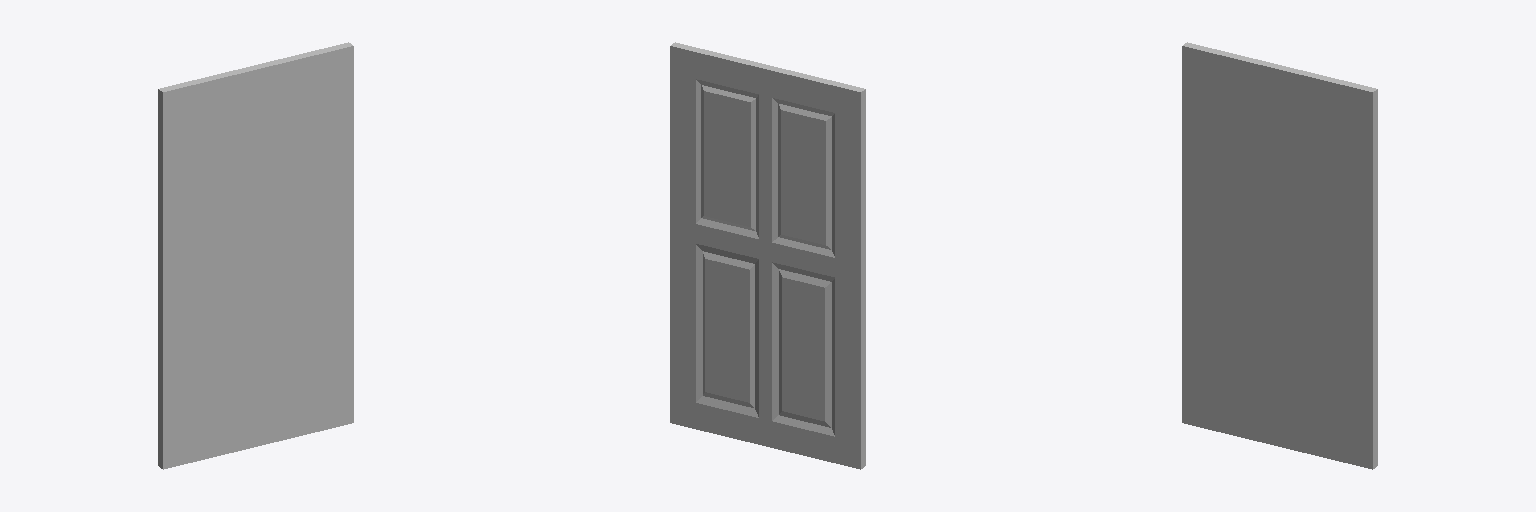
File: door.obj
3 renders of one model, left to right at view 1: azimuth 30°, elevation 25°; view 2: azimuth 150°, elevation 25°; view 3: azimuth 330°, elevation 25°, orthographic.
Parts seen in each view (by area): view 1: pPlane1; view 2: pPlane1; view 3: pPlane1.
Part boxes in pixels (left/top/right/bottom): pPlane1: left=158, top=42, right=353, bottom=469; pPlane1: left=670, top=42, right=865, bottom=469; pPlane1: left=1182, top=42, right=1377, bottom=469.
Size of the model in its own units: 3.13 by 5.92 by 0.1387.